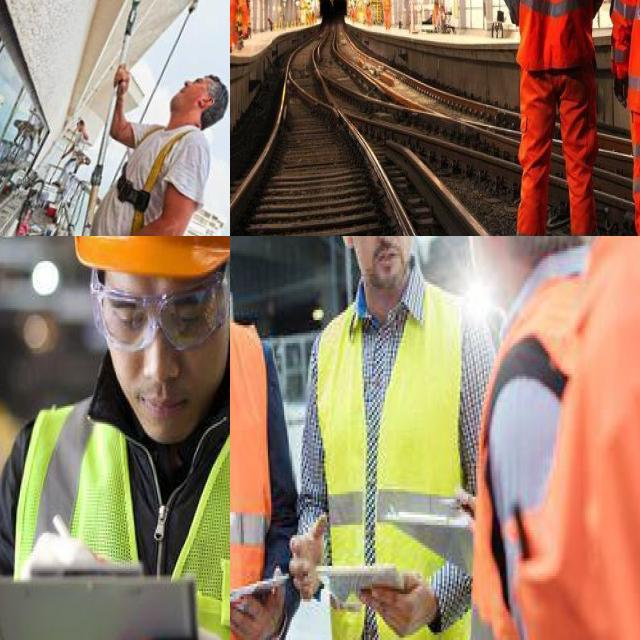Harness: (118, 131, 190, 236)
No_Ear-Protection: (332, 236, 357, 250)
face_nomask: (89, 268, 229, 435), (346, 236, 421, 284)
glasses: (87, 269, 230, 352)
hand_noglove: (367, 555, 444, 640), (281, 522, 335, 610), (230, 581, 288, 640)
person: (0, 236, 230, 640), (300, 236, 486, 640), (230, 236, 300, 640), (500, 0, 612, 236), (380, 0, 391, 33)
vest: (16, 378, 230, 640), (325, 279, 477, 640), (230, 319, 289, 640)
